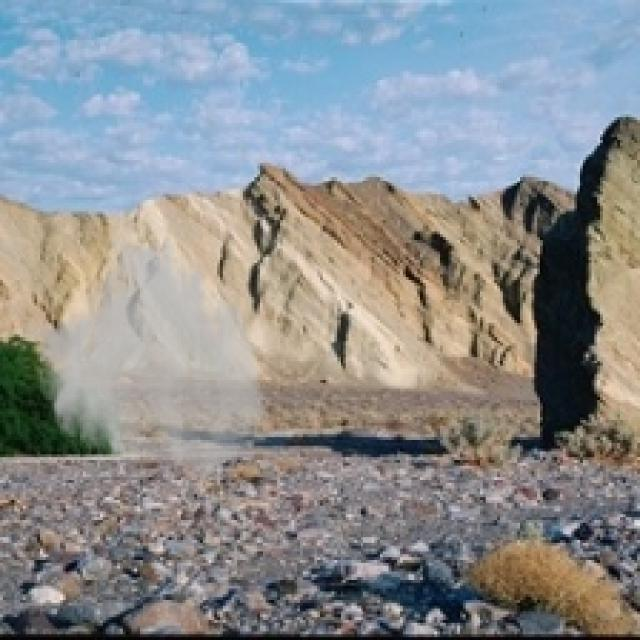Smoke: (34, 228, 269, 483)
